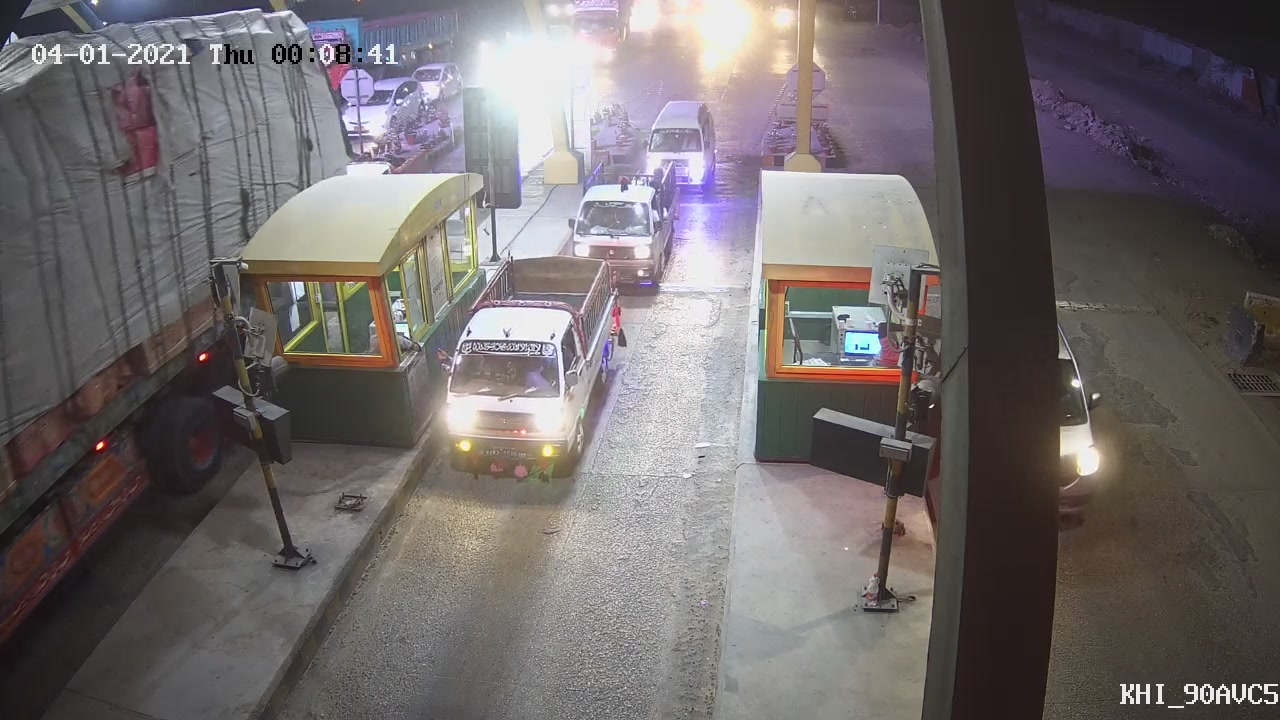F1: (428, 256, 637, 481)
